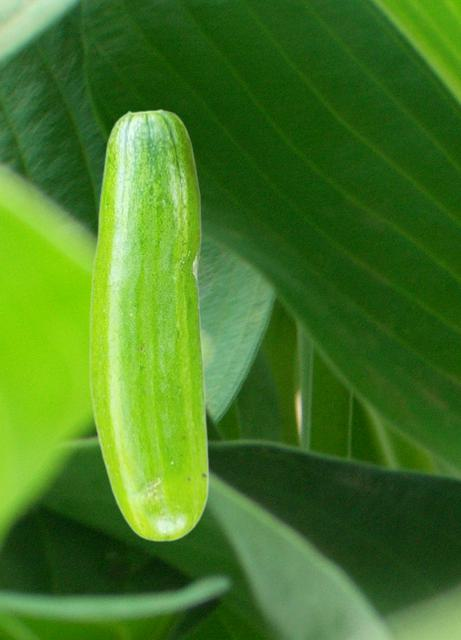cucumber: (89, 108, 208, 541)
